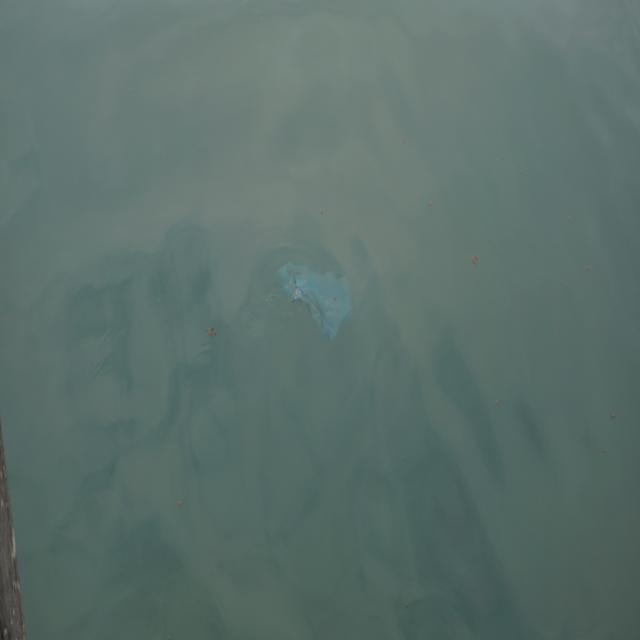Kantong Plastik: (277, 251, 357, 348)
